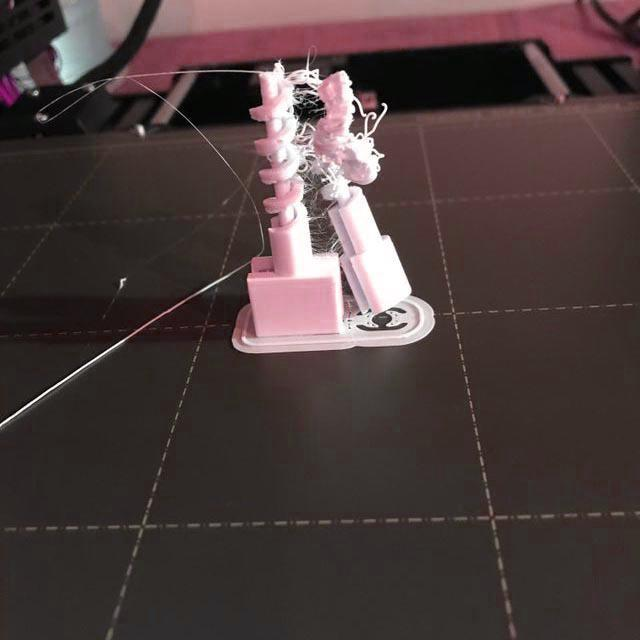Spaghetti: (244, 52, 390, 220)
